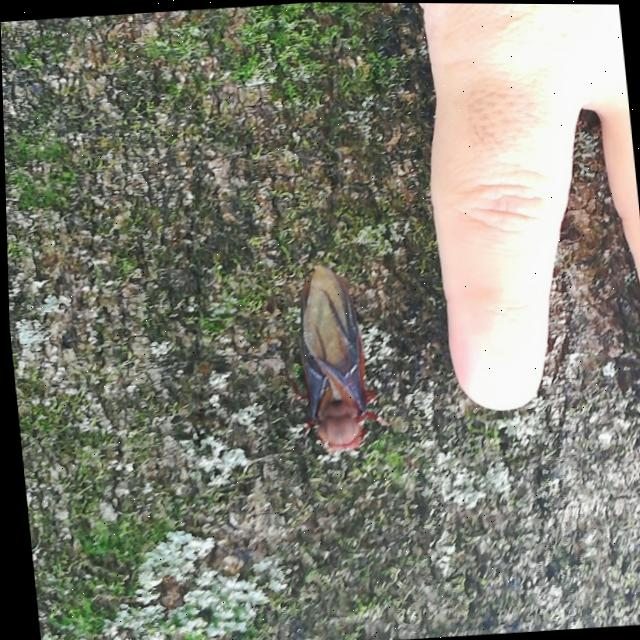Alive-Female-Alate: (262, 259, 393, 456)
